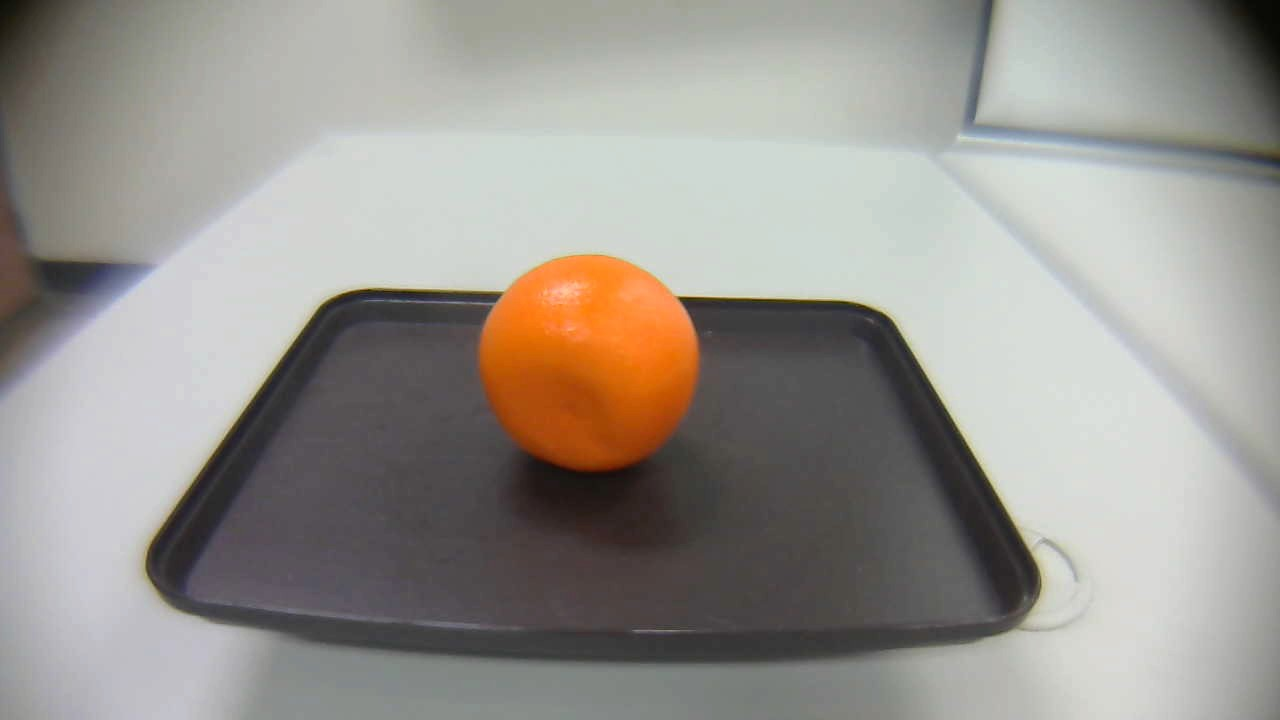orange: (475, 245, 707, 480)
